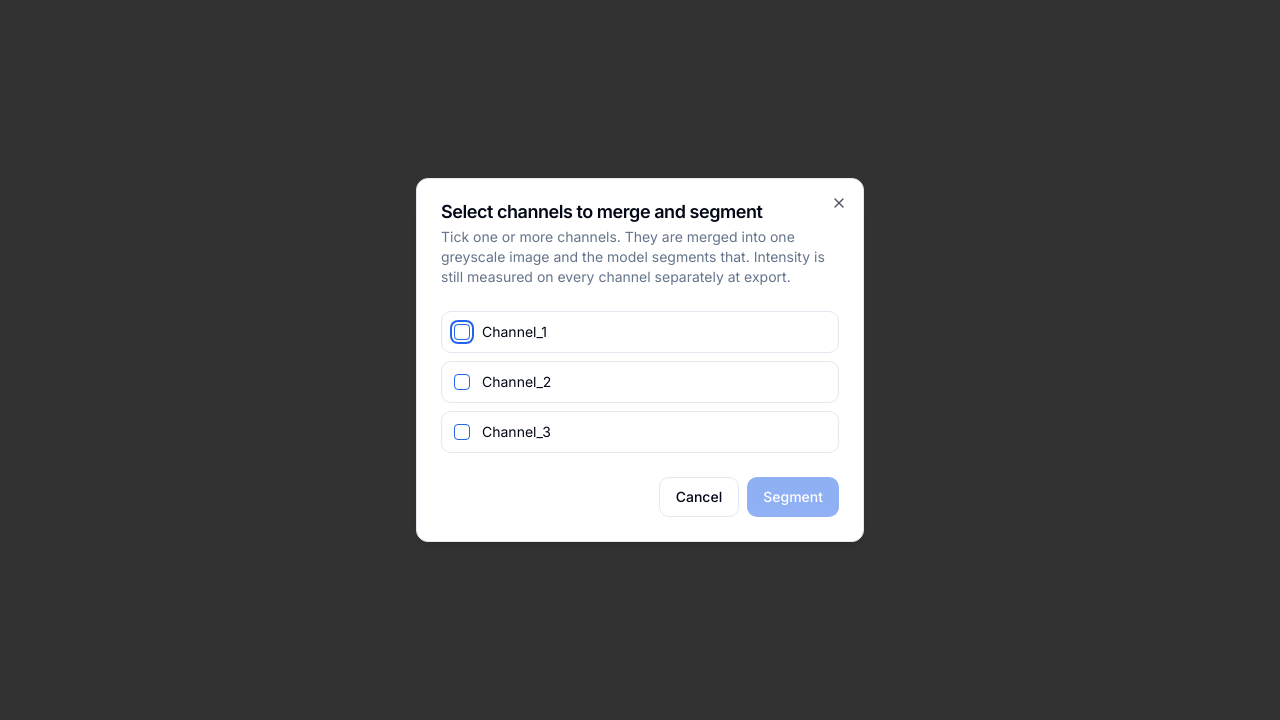
Test case: merging model: checkboxes › unticking the last channel disables Confirm again
The image size is (1280, 720).
What coordinates should you click on to do the following:
click the checkbox named "Channel_2" next to "Channel_2"
I would click on:
 (462, 382)
Its box is [454,374,470,390].
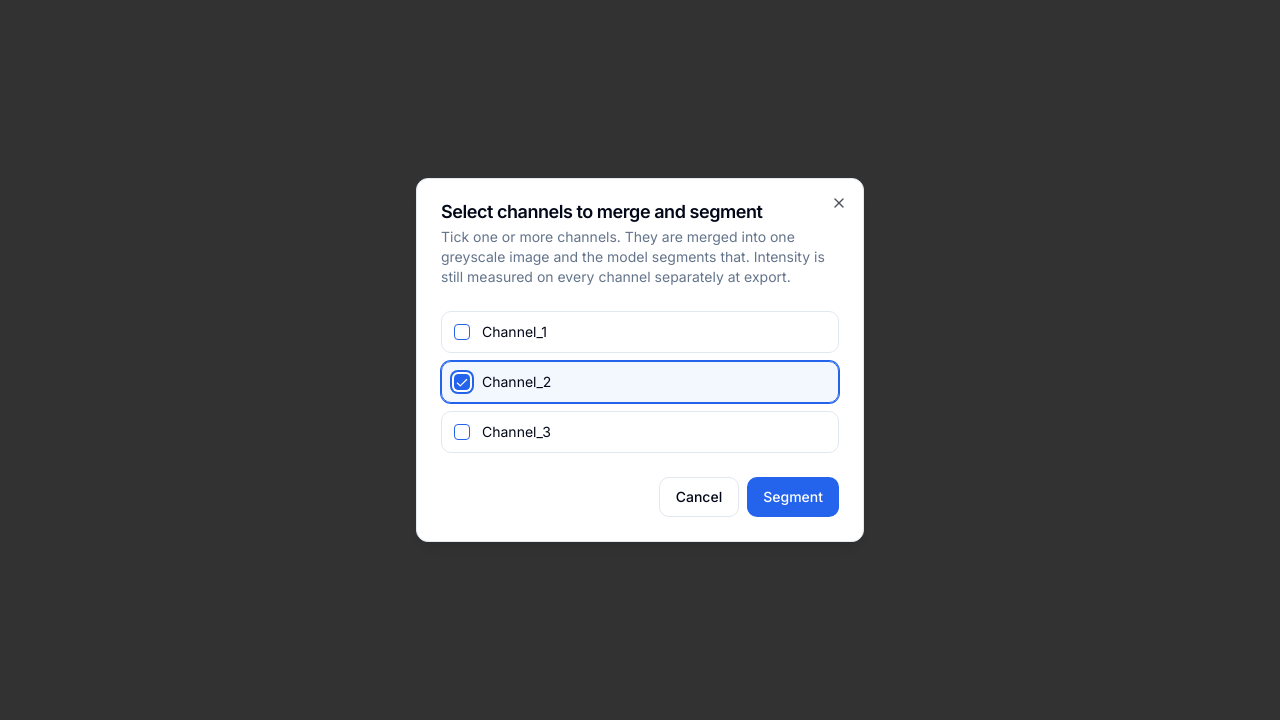
Check: the button "Segment" is enabled, box [747,477,839,517]
What coordinates should you click on to do the following:
click the checkbox named "Channel_2" next to "Channel_2"
I would click on:
 (462, 382)
Its box is [454,374,470,390].
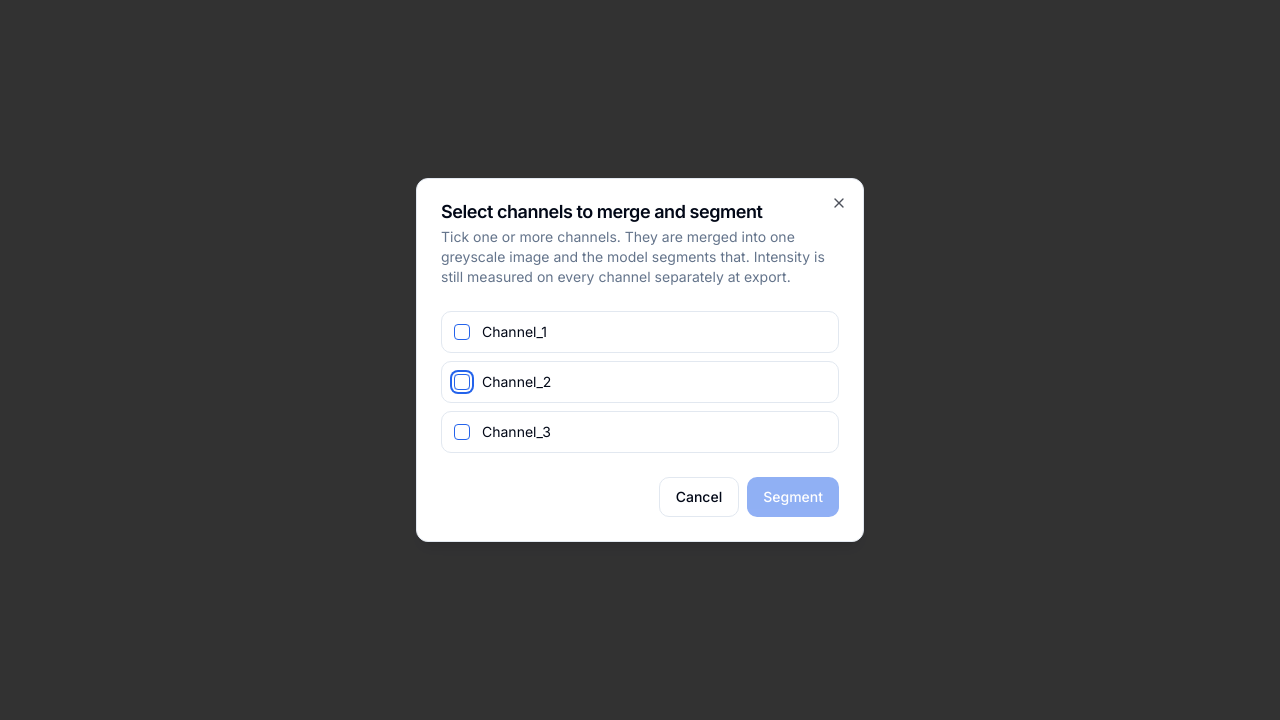
Check: the button "Segment" is disabled, box [747,477,839,517]
